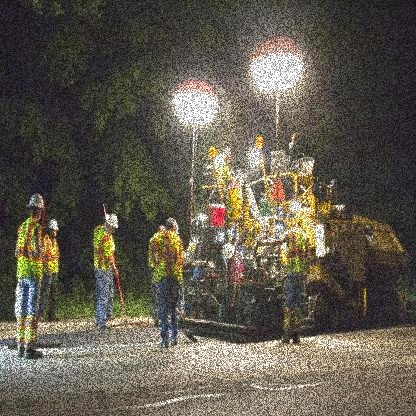vest: (14, 216, 45, 282), (152, 229, 185, 286), (283, 226, 310, 276), (92, 226, 115, 270), (39, 234, 61, 274), (214, 156, 230, 184), (146, 232, 158, 268)
white: (25, 193, 46, 212), (105, 211, 121, 231), (47, 217, 60, 232)
